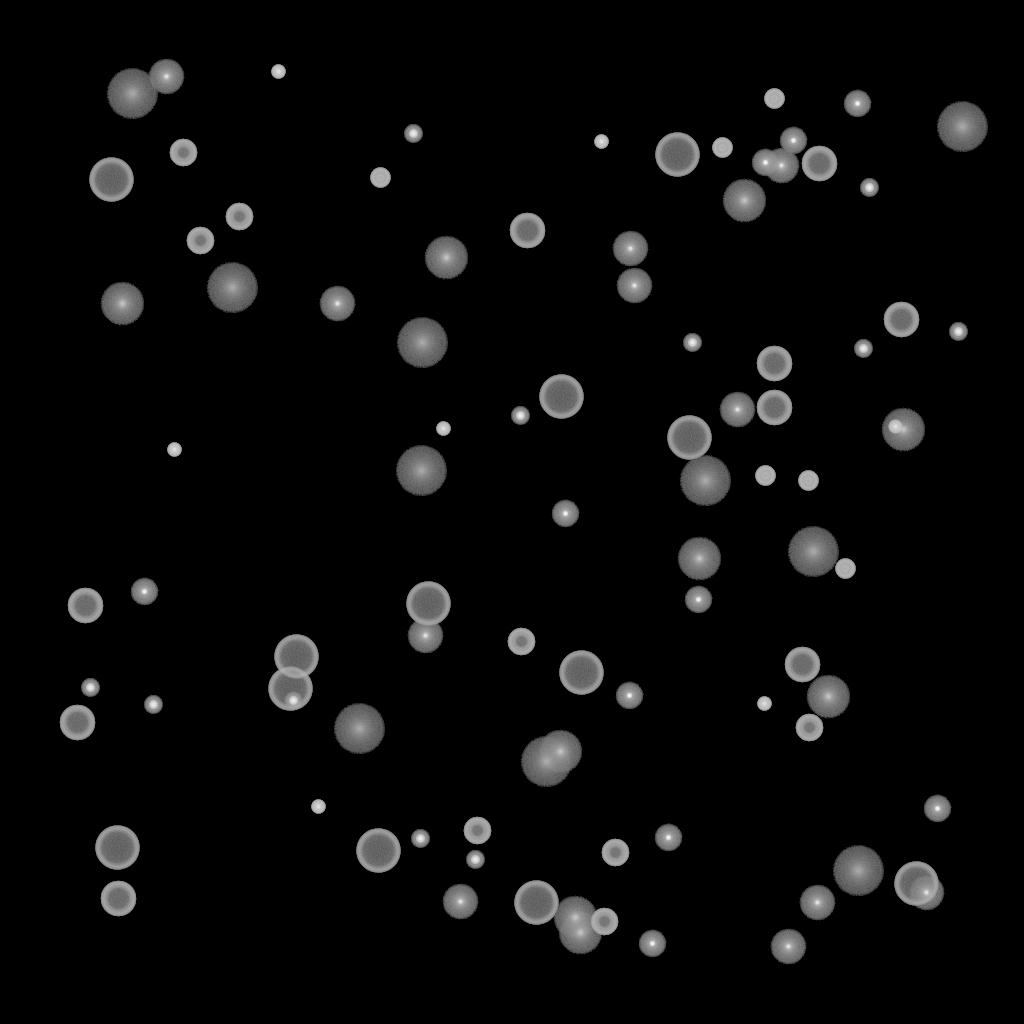depth:-10: (684, 586, 712, 614), (843, 90, 871, 118), (779, 127, 807, 155), (654, 824, 682, 852), (551, 500, 579, 528), (130, 578, 158, 606), (638, 930, 666, 958), (923, 795, 951, 823), (751, 149, 779, 177), (615, 682, 643, 710)
depth:-20: (411, 830, 429, 848), (144, 696, 162, 714), (466, 851, 484, 869), (284, 692, 302, 710), (81, 679, 99, 697), (949, 323, 967, 341), (511, 407, 529, 425), (683, 334, 701, 352), (854, 340, 872, 358), (404, 125, 422, 143), (860, 179, 878, 197)
depth:-30: (311, 800, 325, 814), (594, 135, 608, 149), (436, 422, 450, 436), (757, 697, 771, 711), (271, 65, 285, 79), (888, 420, 902, 434), (167, 443, 181, 457)
depth:-40: (835, 559, 855, 579), (798, 471, 818, 491), (370, 168, 390, 188), (755, 466, 775, 486), (764, 89, 784, 109), (712, 138, 732, 158)
depth:-50: (225, 203, 253, 231), (463, 817, 491, 845), (590, 908, 618, 936), (186, 227, 214, 255), (169, 139, 197, 167), (601, 839, 629, 867), (795, 714, 823, 742), (507, 628, 535, 656)
depth:-60: (784, 647, 820, 683), (883, 302, 919, 338), (67, 588, 103, 624), (801, 146, 837, 182), (756, 390, 792, 426), (756, 346, 792, 382), (59, 705, 95, 741), (509, 213, 545, 249), (100, 881, 136, 917)
depth:-70: (539, 375, 583, 419), (667, 416, 711, 460), (89, 158, 133, 202), (559, 651, 603, 695), (655, 133, 699, 177), (274, 635, 318, 679), (894, 862, 938, 906), (514, 881, 558, 925), (95, 826, 139, 870), (268, 667, 312, 711), (356, 829, 400, 873), (406, 582, 450, 626)
depth:0: (616, 268, 652, 304), (612, 231, 648, 267), (908, 875, 944, 911), (148, 59, 184, 95), (319, 286, 355, 322), (763, 148, 799, 184), (770, 929, 806, 965), (799, 885, 835, 921), (407, 618, 443, 654), (442, 884, 478, 920), (719, 392, 755, 428)
depth:10: (553, 896, 597, 940), (881, 408, 925, 452), (722, 179, 766, 223), (538, 730, 582, 774), (806, 675, 850, 719), (100, 282, 144, 326), (558, 911, 602, 955), (424, 236, 468, 280), (677, 537, 721, 581)
depth:20: (106, 69, 158, 119), (679, 456, 731, 506), (832, 846, 884, 896), (520, 737, 572, 787), (787, 527, 839, 577), (206, 263, 258, 313), (333, 704, 385, 754), (395, 446, 447, 496), (396, 318, 448, 368), (936, 102, 988, 152)
